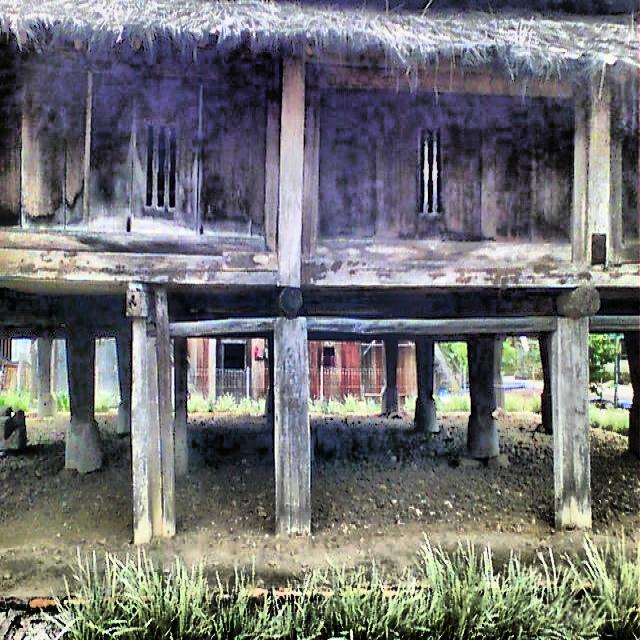column: (551, 318, 591, 529), (274, 317, 310, 535), (66, 339, 103, 474), (156, 289, 175, 536), (132, 319, 149, 542), (469, 341, 498, 458), (147, 339, 162, 537), (415, 341, 436, 431), (625, 330, 639, 460), (175, 338, 187, 479), (37, 338, 56, 417), (117, 340, 132, 433), (539, 337, 552, 434), (382, 341, 399, 413), (264, 339, 274, 419)
roof: (1, 0, 637, 69)
wall: (0, 43, 639, 288)
window: (146, 125, 176, 207), (419, 128, 441, 215)
